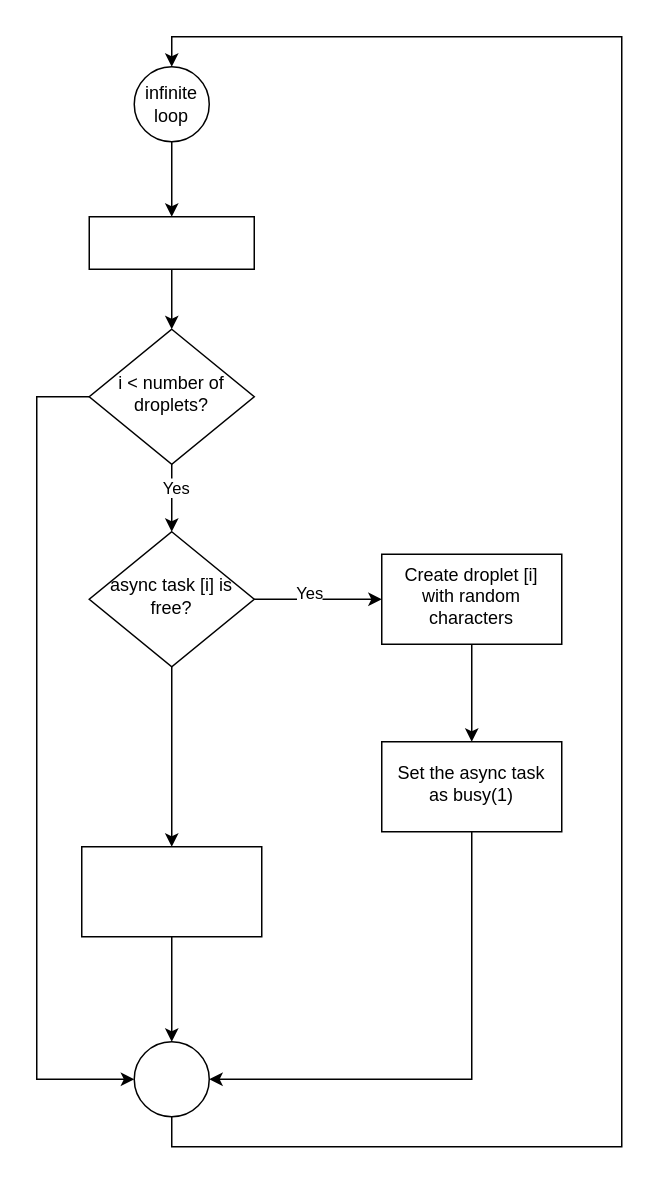
This 660x1185 diagram has some shape labels left out. Here are the shapes that lost their labels. From the top down, the box of each, then its label:
(88, 215, 254, 269): i = 0
(80, 845, 262, 937): Wait for return to set task idle(0)
